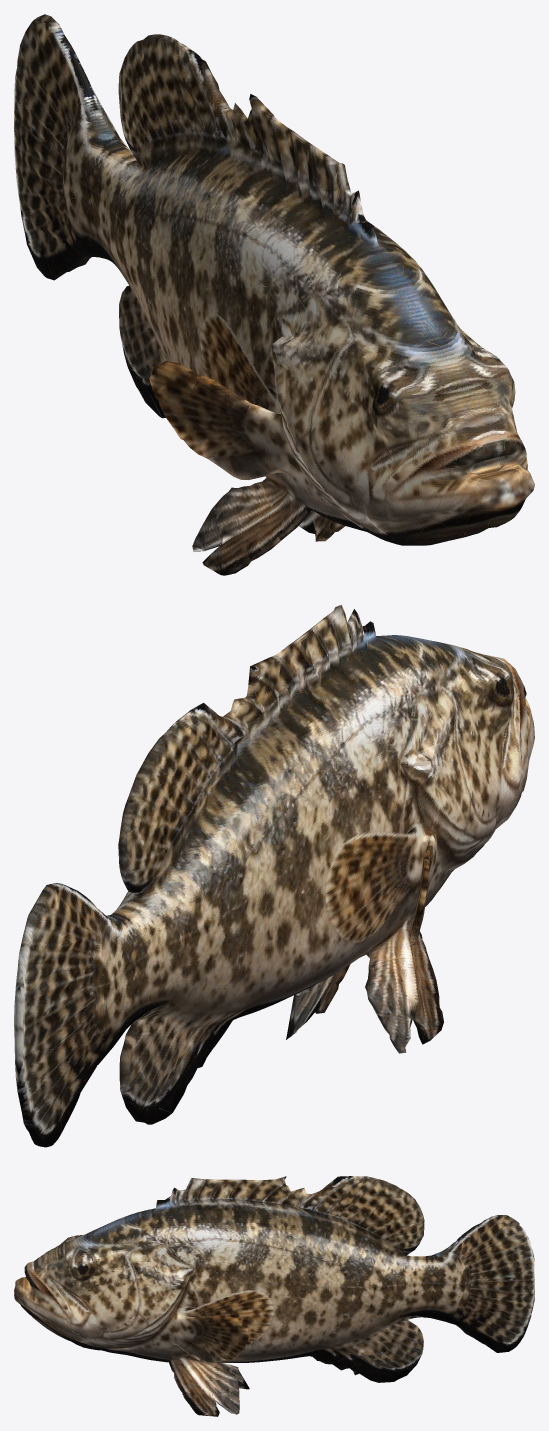
The model's file is fish_mandarin.glb.
3 views of the same model, one above another, from view 1: azimuth 30°, elevation 25°; view 2: azimuth 150°, elevation 25°; view 3: azimuth 270°, elevation 25° (orthographic). The views are drawn at different scales.
Parts seen in each view (by area): view 1: geometry_0; view 2: geometry_0; view 3: geometry_0.
Boxes of the visible parts, x1=… form: geometry_0: x1=14, y1=14, x2=534, y2=575; geometry_0: x1=14, y1=604, x2=534, y2=1147; geometry_0: x1=14, y1=1176, x2=534, y2=1416.
Size of the model in its own units: 0.6362 by 0.883 by 1.96.
Materials: 1 (1 with a texture image).
